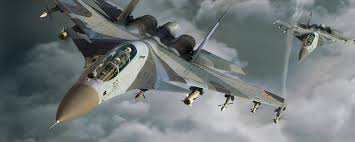maybay_muctieu: (39, 2, 283, 134), (274, 10, 351, 62)
ten_lua: (185, 82, 203, 106), (222, 94, 235, 119), (251, 101, 262, 117)
